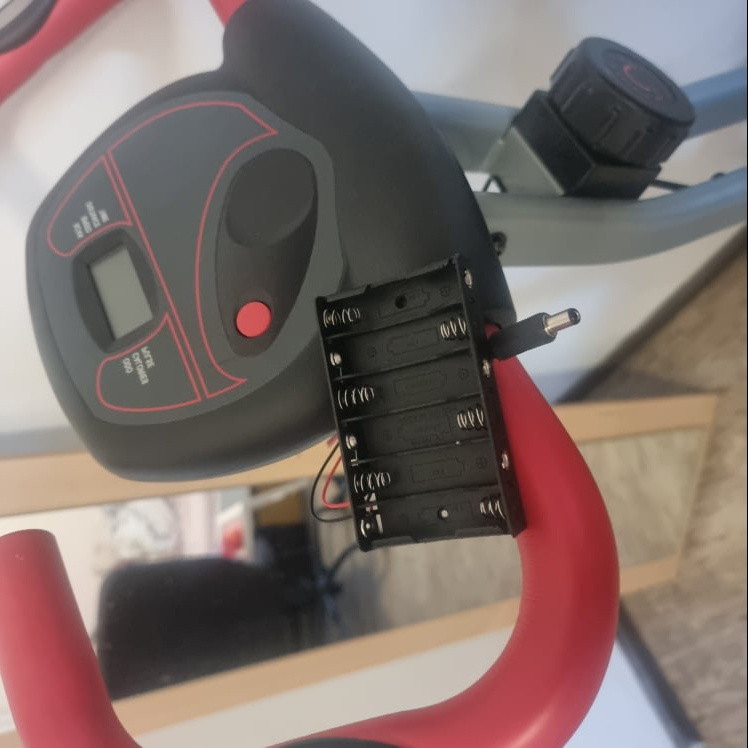BATTERY BOX: (315, 254, 529, 553)
